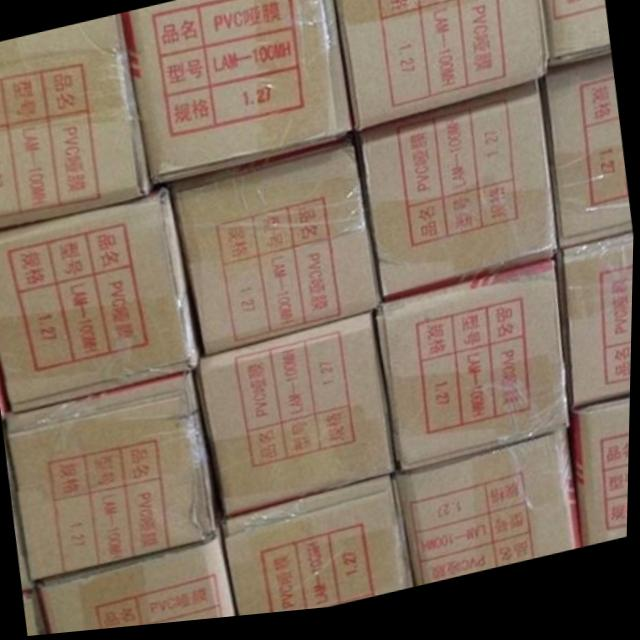box: (170, 138, 384, 360), (0, 186, 206, 414), (8, 374, 224, 583), (355, 90, 559, 310), (121, 0, 353, 188), (378, 269, 572, 481), (198, 319, 399, 523), (0, 16, 152, 228), (334, 0, 551, 139), (398, 439, 585, 594), (222, 482, 418, 621), (38, 528, 241, 635), (538, 69, 634, 259), (557, 244, 635, 422), (572, 411, 632, 558), (544, 0, 612, 80), (27, 585, 52, 637)
